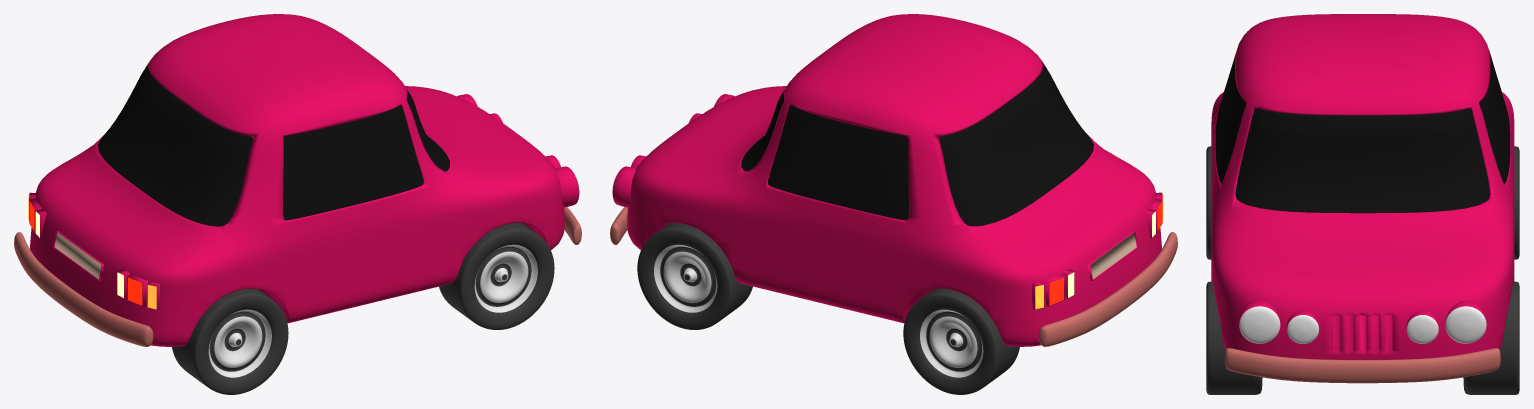
Rendered from ToyCar.fbx.
The picture shows the model from 3 angles, left to right: view 1: azimuth 30°, elevation 25°; view 2: azimuth 150°, elevation 25°; view 3: azimuth 270°, elevation 25°; orthographic projection. The views are drawn at different scales.
Parts seen in each view (by area): view 1: Body, Cube.003, Cylinder.004, Cylinder.005, Cube.004, Cube.012, Sphere, Cube.010, Cube.011; view 2: Body, Cube.003, Cylinder.006, Cylinder.007, Cube.004, Cube.012, Sphere, Cube.010, Cube.011; view 3: Body, Cube.003, Cube.005, Sphere, Cylinder.007, Cylinder.005, Sphere.001, Cylinder.004, Cylinder.006.
Part boxes in pixels (box(x1,y1,x2,y2)): Body: box(30, 14, 564, 346); Cube.003: box(98, 64, 449, 226); Cylinder.004: box(172, 288, 288, 394); Cylinder.005: box(439, 222, 554, 329); Cube.004: box(14, 232, 153, 346); Cube.012: box(53, 230, 103, 280); Sphere: box(457, 94, 579, 207); Cube.010: box(29, 198, 148, 306); Cube.011: box(35, 209, 129, 298); Body: box(627, 14, 1161, 346); Cube.003: box(741, 64, 1093, 226); Cylinder.006: box(903, 288, 1019, 394); Cylinder.007: box(637, 223, 752, 329); Cube.004: box(1038, 232, 1177, 346); Cube.012: box(1087, 231, 1138, 280); Sphere: box(612, 94, 734, 207); Cube.010: box(1043, 198, 1162, 306); Cube.011: box(1061, 209, 1155, 298); Body: box(1211, 14, 1514, 359); Cube.003: box(1215, 50, 1510, 213); Cube.005: box(1225, 348, 1500, 383); Sphere: box(1238, 300, 1486, 343); Cylinder.007: box(1463, 281, 1519, 394); Cylinder.005: box(1206, 281, 1262, 394); Sphere.001: box(1286, 311, 1438, 343); Cylinder.004: box(1206, 146, 1211, 259); Cylinder.006: box(1514, 146, 1519, 259).
Bounding box in the file's own units: 4.77 × 2.63 × 2.52.
